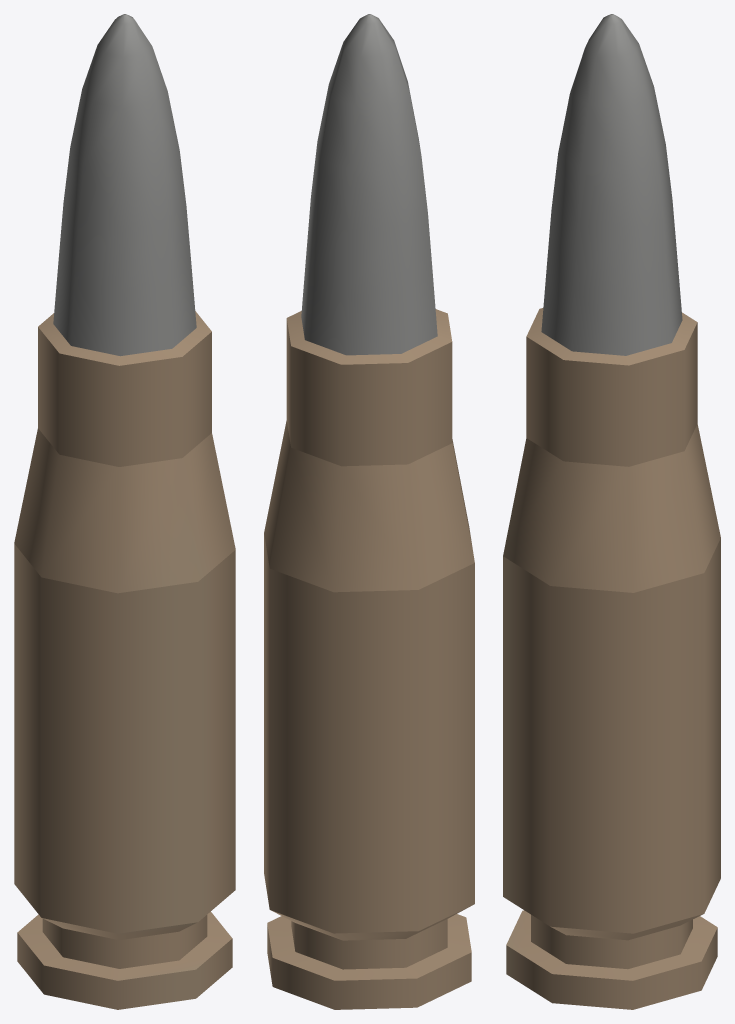
The model's file is SM_Bullet_04.fbx.
3 renders of one model, left to right at view 1: azimuth 30°, elevation 25°; view 2: azimuth 150°, elevation 25°; view 3: azimuth 270°, elevation 25°, orthographic.
Parts seen in each view (by area): view 1: SM_Bullet_04; view 2: SM_Bullet_04; view 3: SM_Bullet_04.
Part boxes in pixels (x1,y1,x2,y2): SM_Bullet_04: [14, 14, 235, 1009]; SM_Bullet_04: [264, 14, 474, 1009]; SM_Bullet_04: [503, 14, 720, 1009].
Size of the model in its own units: 3.6 by 17.36 by 3.6.
Materials: 1 (1 with a texture image).
